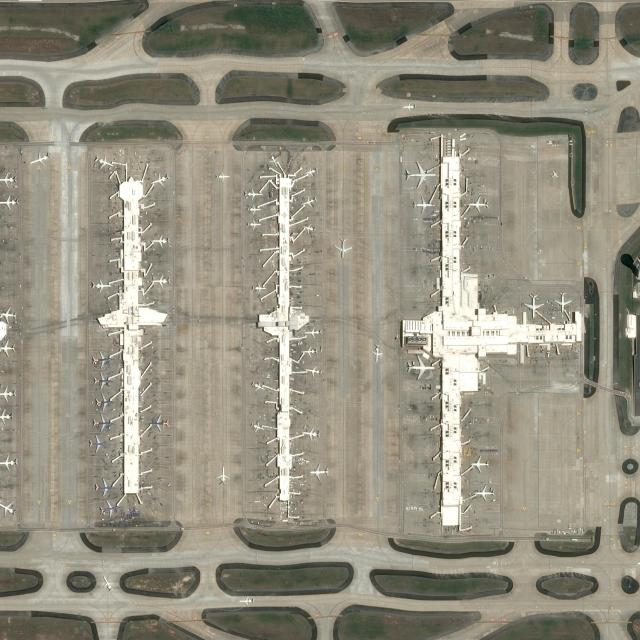1: (0, 192, 20, 211), (0, 498, 18, 518), (0, 305, 18, 324), (0, 339, 18, 357), (0, 386, 18, 404), (0, 453, 18, 471), (0, 171, 18, 187), (0, 408, 15, 426)
aircraft: (404, 159, 435, 188), (406, 354, 435, 380), (522, 292, 544, 319), (92, 476, 118, 498), (553, 289, 573, 316), (89, 350, 114, 370), (145, 414, 170, 434), (332, 236, 352, 260), (86, 434, 110, 454), (96, 500, 120, 520), (91, 413, 116, 432), (92, 370, 115, 390), (473, 483, 496, 503), (90, 276, 114, 294), (466, 196, 490, 214), (27, 151, 52, 168), (308, 462, 329, 482), (92, 394, 115, 412), (148, 272, 172, 288), (94, 154, 116, 171), (412, 197, 434, 214), (150, 172, 173, 188), (299, 426, 322, 442), (470, 455, 490, 473), (150, 234, 172, 249), (300, 342, 320, 358), (99, 574, 115, 594), (237, 592, 257, 608), (303, 364, 323, 379), (216, 465, 230, 486), (304, 325, 324, 339), (248, 419, 266, 434), (245, 187, 264, 201), (371, 343, 384, 362), (214, 170, 232, 183), (246, 218, 262, 232), (304, 164, 320, 178), (250, 282, 268, 294), (249, 380, 267, 392), (302, 194, 317, 208), (402, 100, 417, 114), (247, 203, 263, 216), (302, 222, 317, 235), (268, 152, 280, 168), (550, 168, 559, 180)
